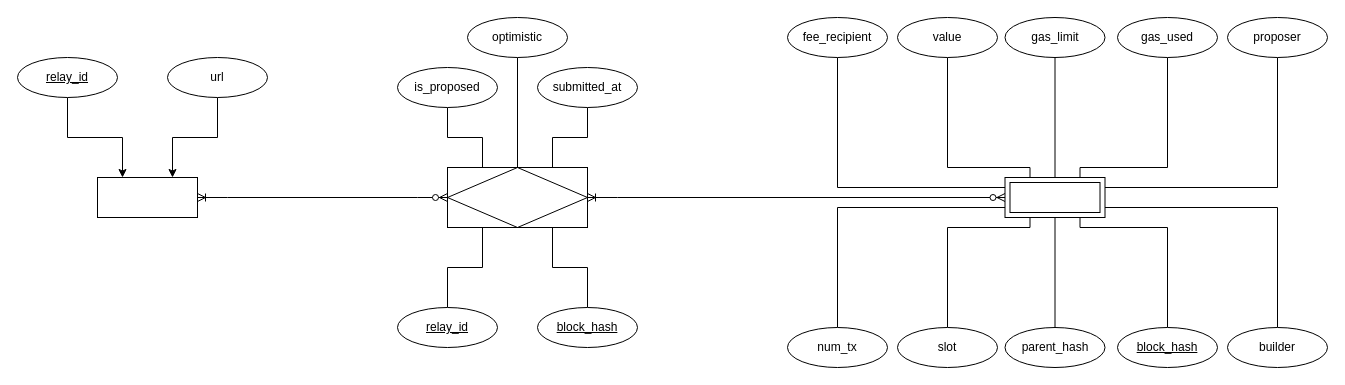
This 1345x385 diagram has some shape labels left out. The centre of each missing label's shape, as x and y in pixels:
"Bid" belongs at point 1054,197.
"Relay" belongs at point 147,197.
"Submissions" belongs at point 517,197.
